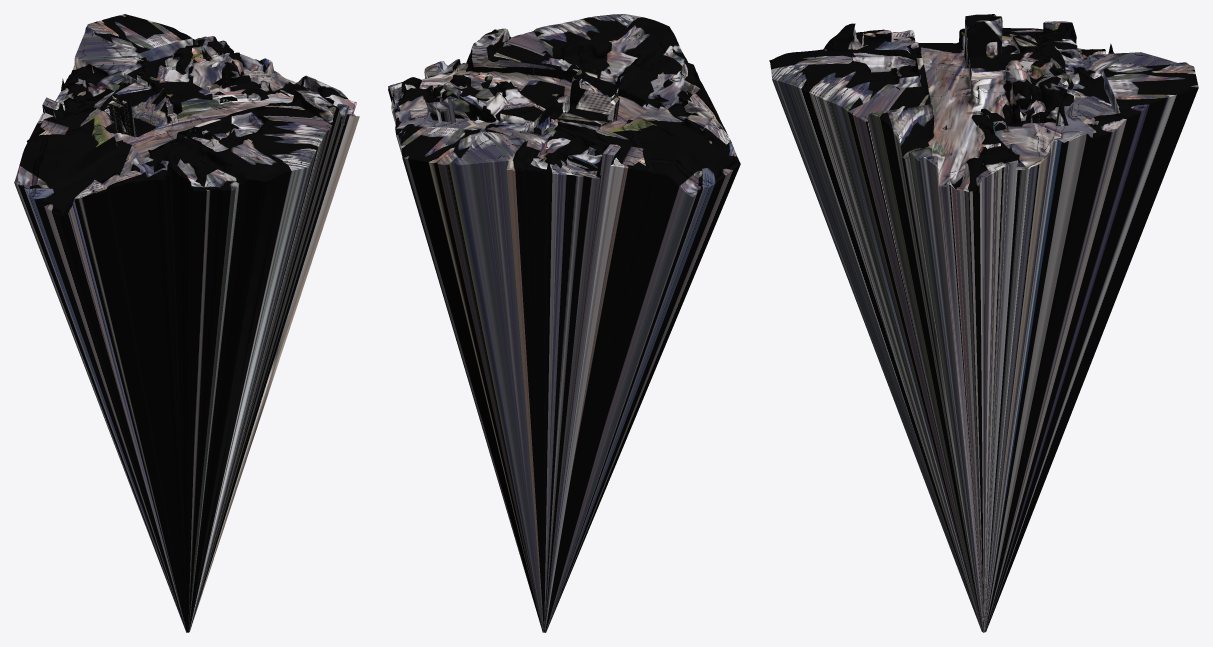
Rendered from crystalCity_02.fbx.
3 views of the same model, side by side, from view 1: azimuth 30°, elevation 25°; view 2: azimuth 150°, elevation 25°; view 3: azimuth 270°, elevation 25° (orthographic). The views are drawn at different scales.
Visible parts, largest first — view 1: polySurface70, polySurface87, polySurface93, polySurface100, polySurface88, polySurface96, polySurface72, polySurface81, polySurface71, polySurface78, polySurface82, polySurface79 (+9 smaller); view 2: polySurface80, polySurface102, polySurface96, polySurface70, polySurface72, polySurface93, polySurface89, polySurface81, polySurface107, polySurface79, polySurface82, polySurface106 (+11 smaller); view 3: polySurface93, polySurface72, polySurface86, polySurface88, polySurface82, polySurface70, polySurface78, polySurface51, polySurface85, polySurface79, polySurface81, polySurface45 (+4 smaller).
Boxes of the visible parts, bbox=[...] form: polySurface70: bbox=[31, 129, 191, 632]; polySurface87: bbox=[188, 153, 295, 632]; polySurface93: bbox=[189, 51, 359, 631]; polySurface100: bbox=[188, 180, 220, 630]; polySurface88: bbox=[189, 150, 315, 631]; polySurface96: bbox=[14, 137, 185, 629]; polySurface72: bbox=[113, 14, 283, 77]; polySurface81: bbox=[46, 72, 153, 137]; polySurface71: bbox=[166, 129, 216, 632]; polySurface78: bbox=[155, 54, 234, 118]; polySurface82: bbox=[187, 128, 285, 179]; polySurface79: bbox=[50, 61, 132, 125]; polySurface80: bbox=[531, 147, 652, 632]; polySurface102: bbox=[438, 158, 543, 632]; polySurface96: bbox=[545, 161, 711, 632]; polySurface70: bbox=[546, 63, 740, 631]; polySurface72: bbox=[392, 81, 542, 631]; polySurface93: bbox=[388, 24, 575, 111]; polySurface89: bbox=[416, 131, 542, 630]; polySurface81: bbox=[545, 74, 648, 160]; polySurface107: bbox=[517, 169, 543, 630]; polySurface79: bbox=[501, 117, 631, 171]; polySurface82: bbox=[576, 22, 675, 82]; polySurface106: bbox=[429, 161, 542, 628]; polySurface93: bbox=[826, 77, 1041, 632]; polySurface72: bbox=[984, 58, 1198, 632]; polySurface86: bbox=[798, 71, 982, 631]; polySurface88: bbox=[771, 69, 981, 631]; polySurface82: bbox=[804, 49, 922, 80]; polySurface70: bbox=[824, 23, 1023, 53]; polySurface78: bbox=[968, 56, 1039, 107]; polySurface51: bbox=[924, 65, 1004, 100]; polySurface85: bbox=[965, 18, 1038, 67]; polySurface79: bbox=[1038, 21, 1112, 64]; polySurface81: bbox=[964, 14, 1038, 60]; polySurface45: bbox=[921, 36, 997, 75].
Bounding box in the file's own units: 6.5 × 10.83 × 7.08.
